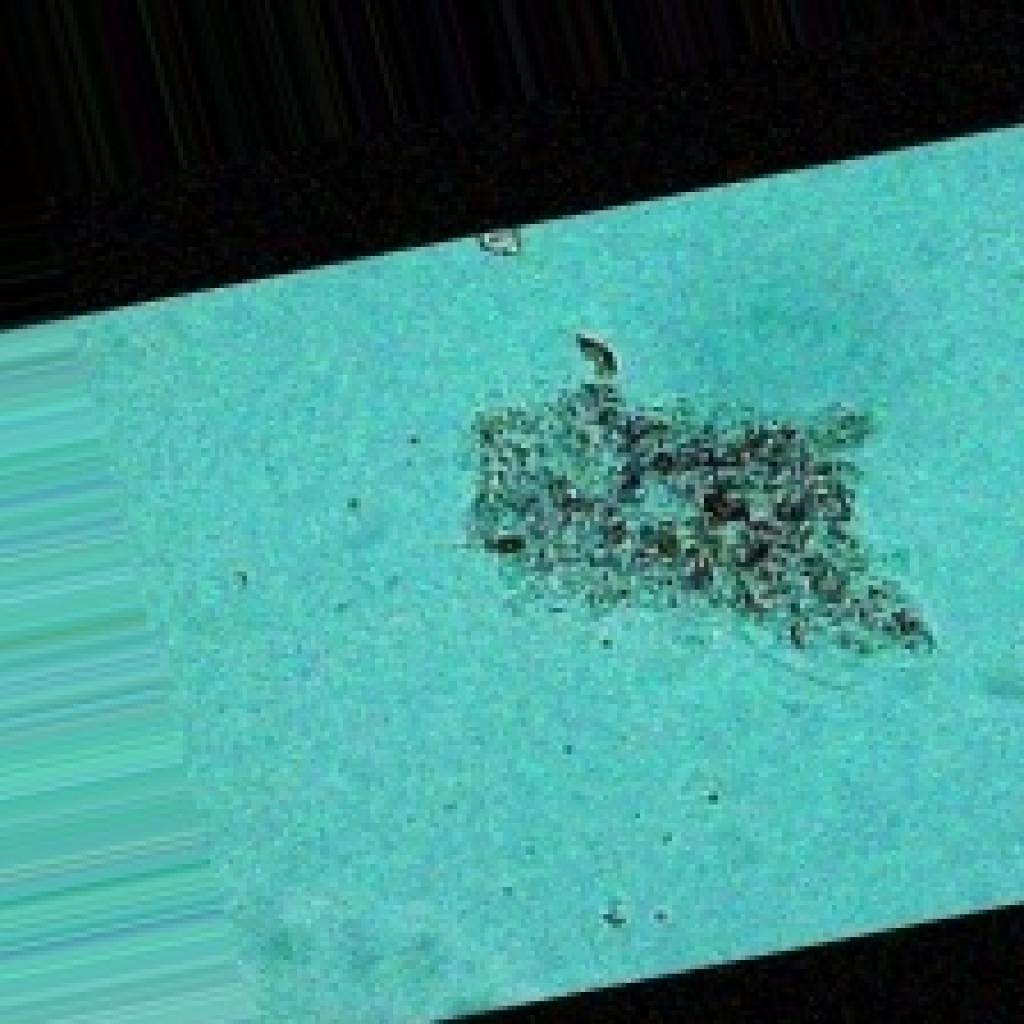Amoeba: (457, 324, 937, 663)
